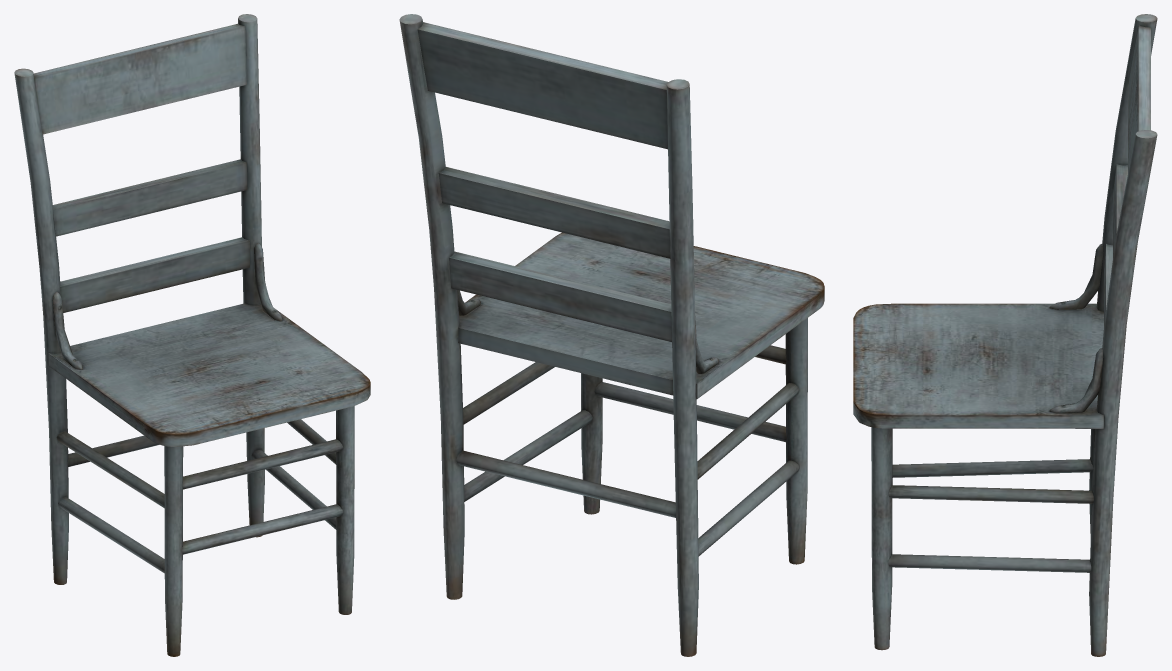
Rendered from office_chair.glb.
The picture shows the model from 3 angles, left to right: view 1: azimuth 30°, elevation 25°; view 2: azimuth 150°, elevation 25°; view 3: azimuth 270°, elevation 25°; orthographic projection. The views are drawn at different scales.
Visible parts, largest first — view 1: painted_wooden_chair_02; view 2: painted_wooden_chair_02; view 3: painted_wooden_chair_02.
Boxes of the visible parts, left/top/right/bottom form: painted_wooden_chair_02: left=14, top=14, right=370, bottom=656; painted_wooden_chair_02: left=399, top=14, right=824, bottom=656; painted_wooden_chair_02: left=853, top=14, right=1157, bottom=656.
Bounding box in the file's own units: 0.6394 × 1.26 × 0.6606.
Materials: 1 (1 with a texture image).
